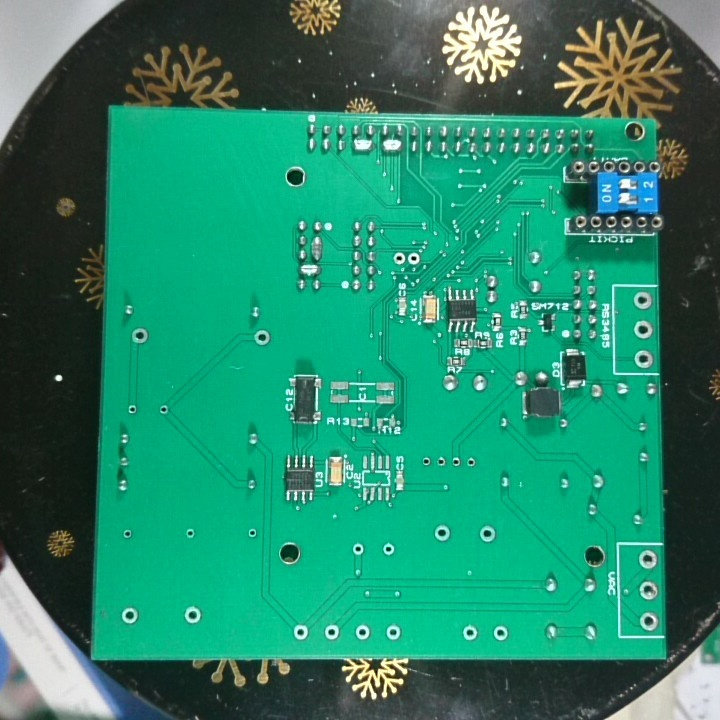F: (637, 607, 662, 632), (636, 578, 660, 603), (382, 620, 406, 644), (118, 605, 142, 628), (320, 620, 342, 645), (351, 620, 374, 643), (637, 548, 659, 572), (632, 318, 654, 341), (128, 324, 150, 347), (182, 603, 202, 628), (632, 290, 654, 312), (252, 326, 273, 349), (633, 347, 654, 369), (490, 622, 511, 643), (477, 523, 497, 545), (291, 622, 311, 643), (432, 523, 451, 544), (460, 623, 479, 643), (349, 538, 366, 559), (379, 540, 397, 558), (448, 453, 465, 471), (464, 454, 479, 474), (406, 249, 421, 268), (418, 454, 434, 471), (391, 249, 406, 267), (433, 453, 448, 471), (120, 526, 134, 544), (245, 524, 259, 542), (182, 525, 197, 541), (125, 403, 140, 417), (157, 402, 171, 417)
P: (380, 136, 403, 156), (310, 233, 325, 263), (350, 136, 373, 155), (297, 262, 321, 278)
